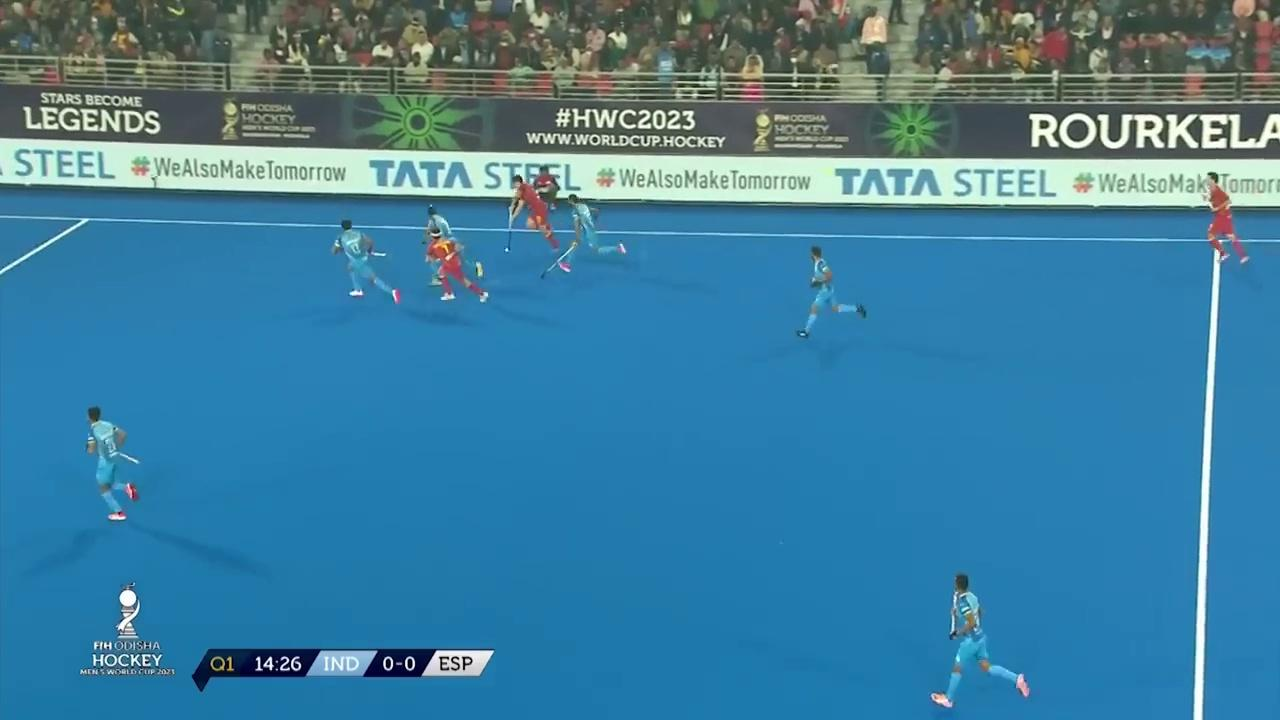ball: (500, 243, 515, 259)
